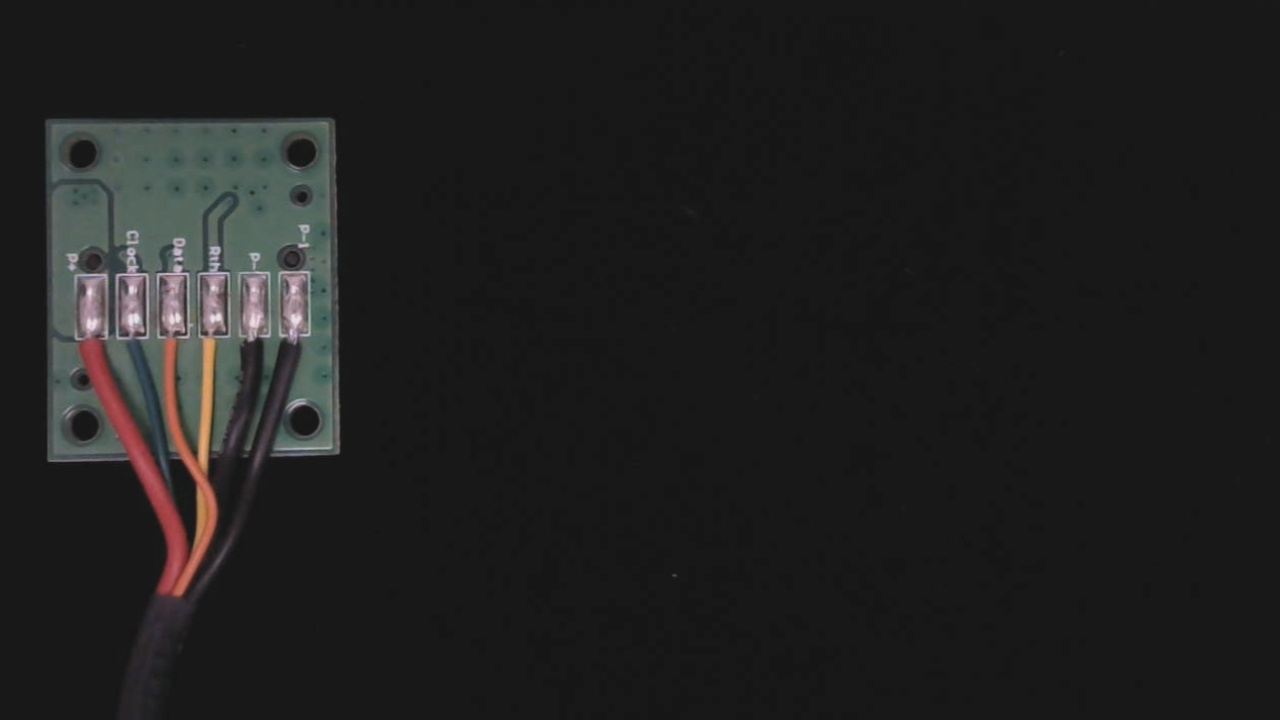Black: (237, 321, 269, 385)
Black1: (279, 321, 312, 389)
Green: (113, 319, 149, 390)
Orange: (155, 320, 188, 393)
Red: (75, 319, 110, 390)
Yellow: (196, 319, 232, 394)
